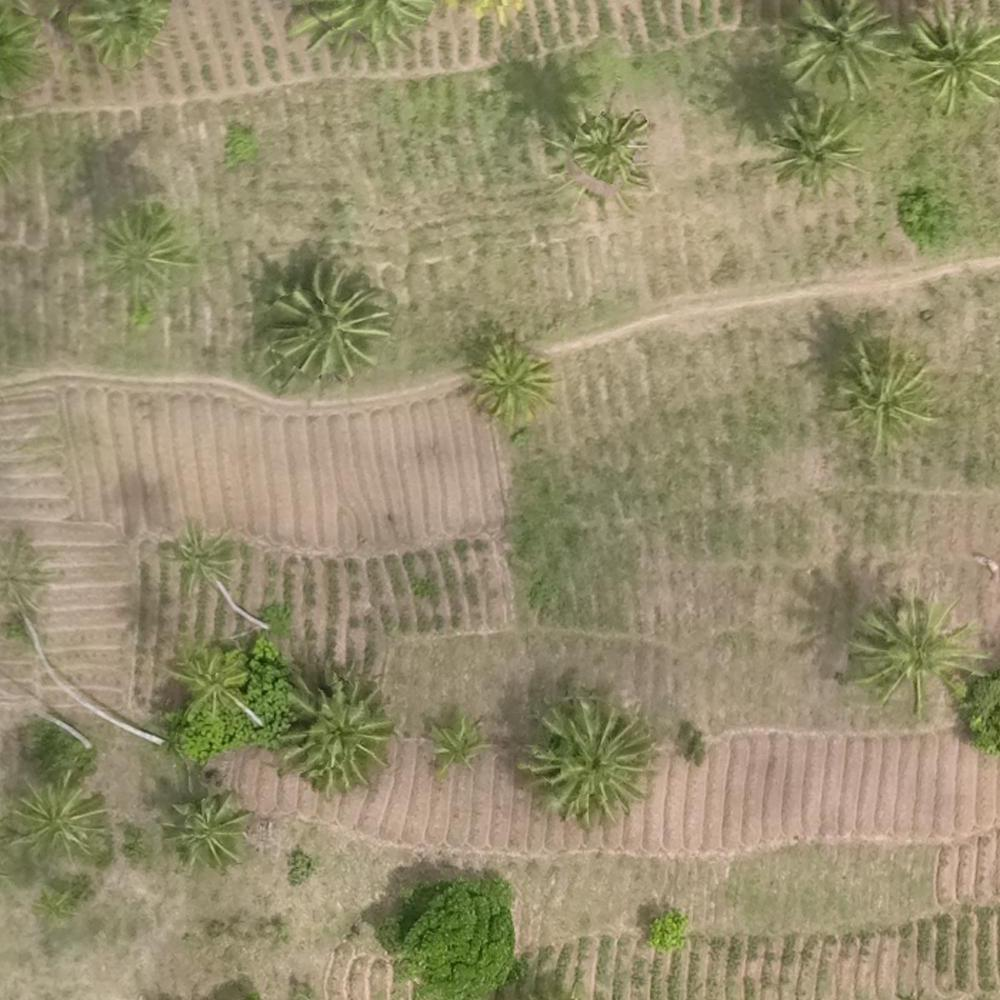Palm: (858, 581, 970, 713), (522, 698, 648, 814), (263, 261, 380, 379), (278, 665, 391, 784), (835, 334, 937, 447), (897, 9, 996, 119), (785, 4, 891, 104), (87, 210, 186, 302), (4, 779, 98, 858), (762, 101, 854, 180), (470, 345, 555, 423), (568, 113, 650, 192), (167, 790, 250, 867), (162, 523, 231, 592), (171, 647, 243, 712), (422, 712, 490, 776)
